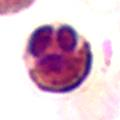neutrophil: (23, 20, 95, 92)
